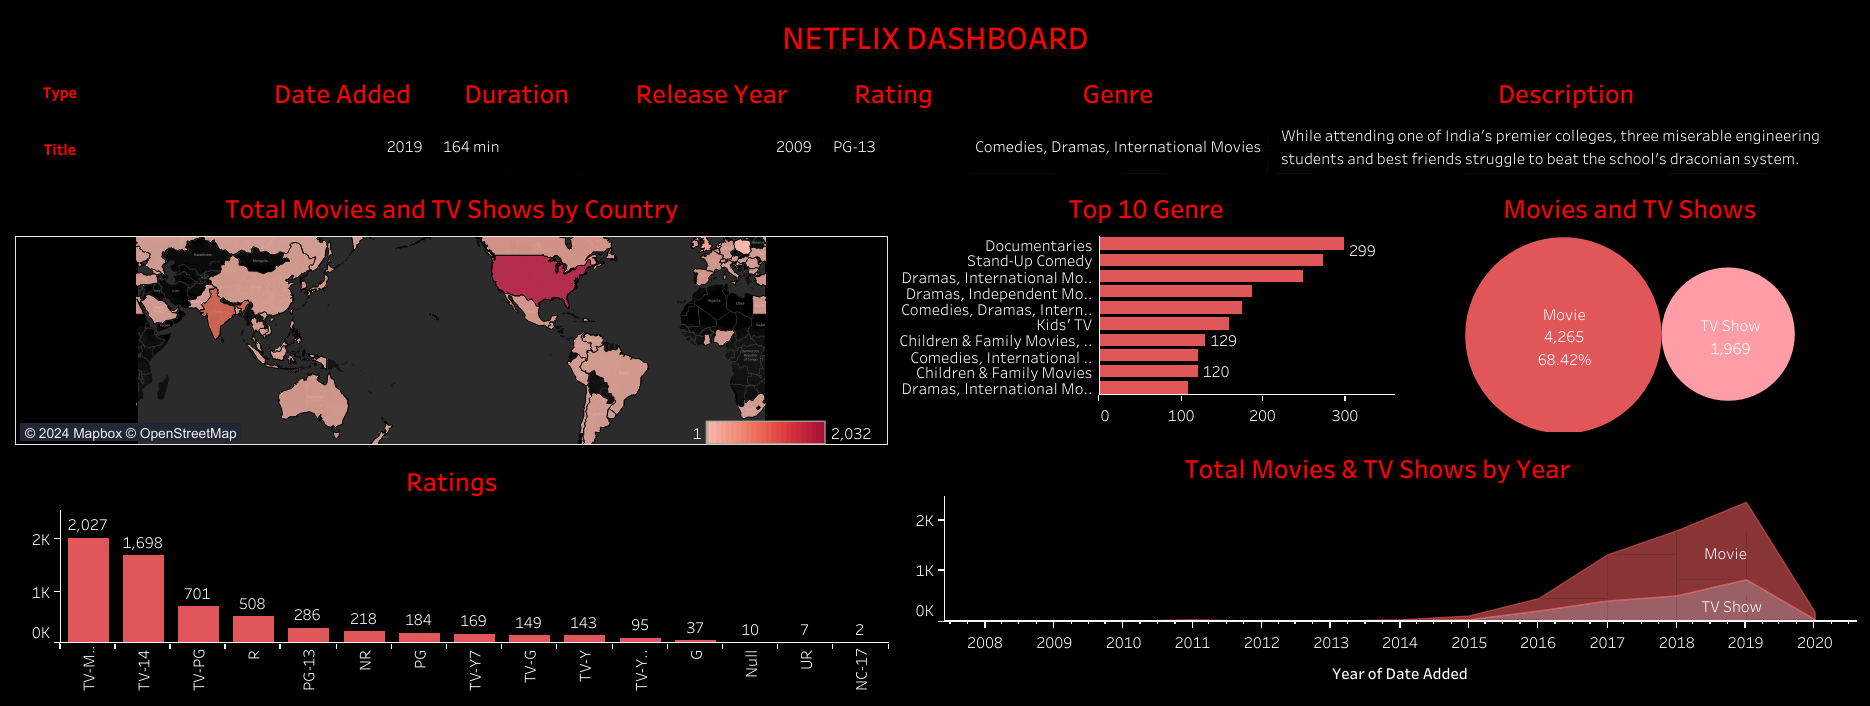

The dashboard page shown, as its layout file describes it:
{"tool":"tableau","page":{"name":"Netflix Dashboard","canvas":[1000,1000],"units":"permille","ordinal":0},"visuals":[{"type":"title","box":[6.1,14.6,987.8,76.8]},{"type":"filter","title":"Description","param":"[federated.1qpyo0x1l0kpre0zo1pwu0cdtds4].[none:type:nk]","box":[6.1,91.4,129.5,80.6]},{"type":"worksheet","title":"Date Added","mark":"Automatic","box":[135.6,91.4,96,161.3]},{"type":"worksheet","title":"Duration","mark":"Automatic","box":[231.5,91.4,89.9,161.3]},{"type":"worksheet","title":"Release Year","mark":"Automatic","box":[321.4,91.4,118,161.3]},{"type":"worksheet","title":"Rating","mark":"Automatic","box":[439.4,91.4,76.2,161.3]},{"type":"worksheet","title":"Genre","mark":"Automatic","box":[515.6,91.4,163.8,161.3]},{"type":"worksheet","title":"Description","mark":"Automatic","box":[679.3,91.4,314.6,161.3]},{"type":"filter","title":"Description","param":"[federated.1qpyo0x1l0kpre0zo1pwu0cdtds4].[none:title:nk]","box":[6.1,172.1,129.5,80.7]},{"type":"worksheet","title":"Total Movie and TV show by Country","mark":"Multipolygon","box":[6.1,252.7,471.4,386.4]},{"type":"worksheet","title":"Top 10 Genre","mark":"Automatic","rows":["listed_in"],"cols":["show_id"],"box":[477.5,252.7,269.4,366.3]},{"type":"worksheet","title":"Movies and TV Shows","mark":"Circle","box":[746.9,252.7,247,366.3]},{"type":"legend","title":"Total Movie and TV show by Country","param":"[federated.1qpyo0x1l0kpre0zo1pwu0cdtds4].[ctd:show_id:qk]","box":[367.1,588.6,102.1,55.5]},{"type":"worksheet","title":"Total Movies & TV Shows by Year","mark":"Area","rows":["show_id"],"cols":["date_added"],"box":[477.5,619,516.4,366.3]},{"type":"worksheet","title":"Ratings","mark":"Automatic","rows":["show_id"],"cols":["rating"],"box":[6.1,639.2,471.4,346.2]}]}

Visuals, with their boxes on the dashboard's canvas, which has no fixed pixel size, in thousandths of its width and height (x1, y1, x2, y2). These are canvas units, not pixel positions in the 1870x706 screenshot, which may show the page scaled, cropped or inside an application window:
title: (6,15,994,91)
"Description" filter: (6,91,136,172)
"Date Added" worksheet: (136,91,232,253)
"Duration" worksheet: (232,91,321,253)
"Release Year" worksheet: (321,91,439,253)
"Rating" worksheet: (439,91,516,253)
"Genre" worksheet: (516,91,679,253)
"Description" worksheet: (679,91,994,253)
"Description" filter: (6,172,136,253)
"Total Movie and TV show by Country" worksheet (Multipolygon marks): (6,253,478,639)
"Top 10 Genre" worksheet: (478,253,747,619)
"Movies and TV Shows" worksheet (Circle marks): (747,253,994,619)
"Total Movie and TV show by Country" legend: (367,589,469,644)
"Total Movies & TV Shows by Year" worksheet (Area marks): (478,619,994,985)
"Ratings" worksheet: (6,639,478,985)
